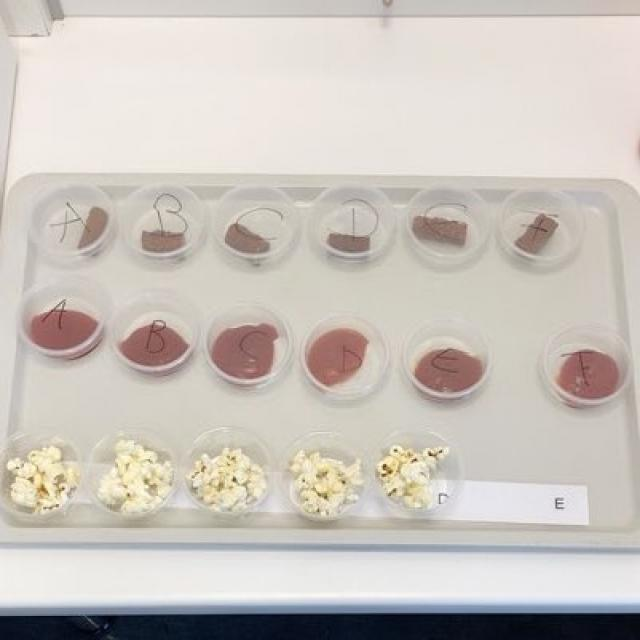ketchup: (39, 310, 622, 402)
popcorn-salted: (6, 444, 438, 517)
